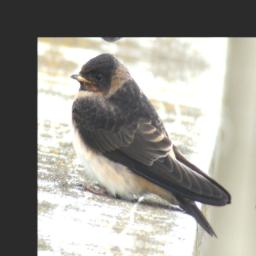Swallow: (56, 45, 244, 243)
